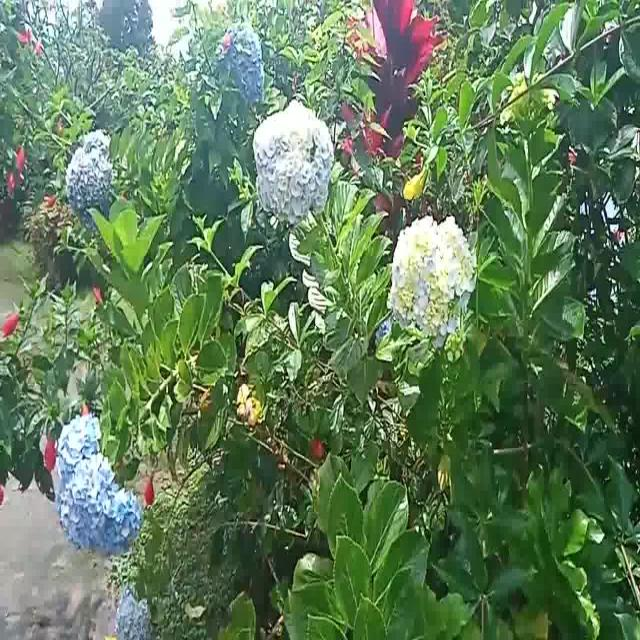Flower: (57, 404, 143, 557), (389, 218, 475, 356), (252, 102, 338, 224), (66, 126, 122, 220), (222, 16, 264, 101), (116, 591, 154, 637), (2, 303, 21, 336), (144, 473, 156, 512), (46, 430, 56, 473)
